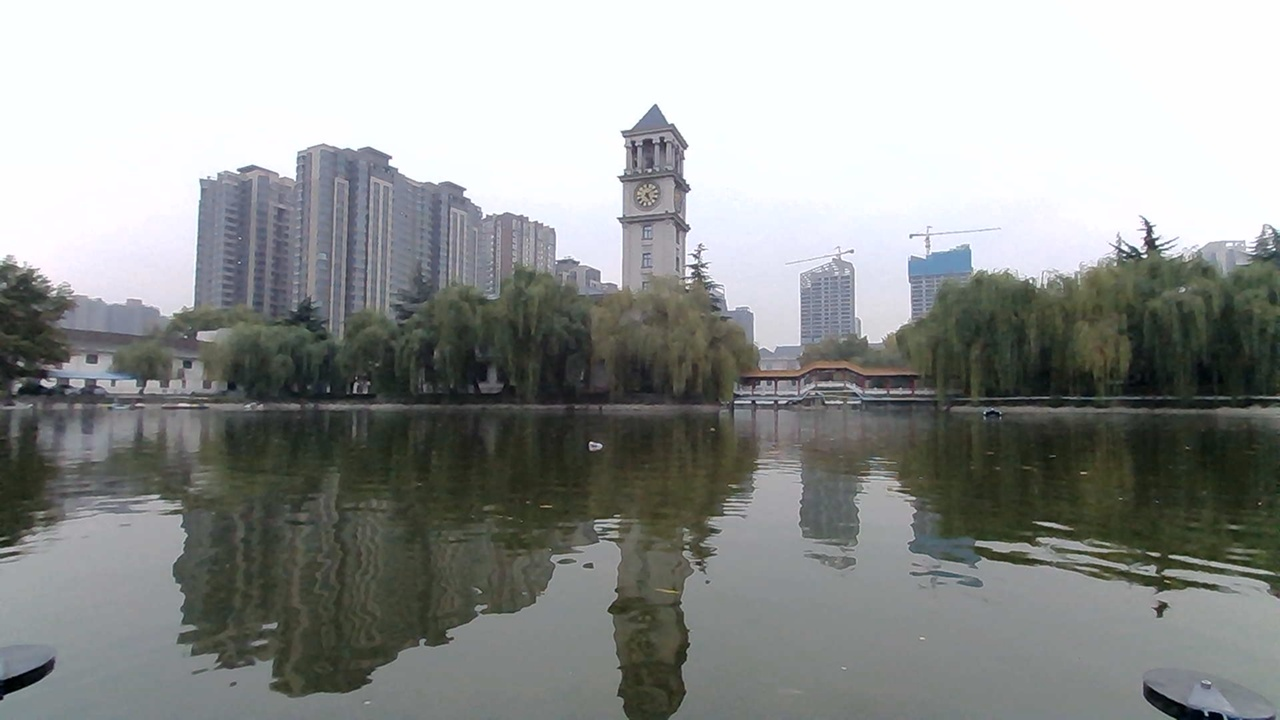bottle: (577, 425, 629, 463)
